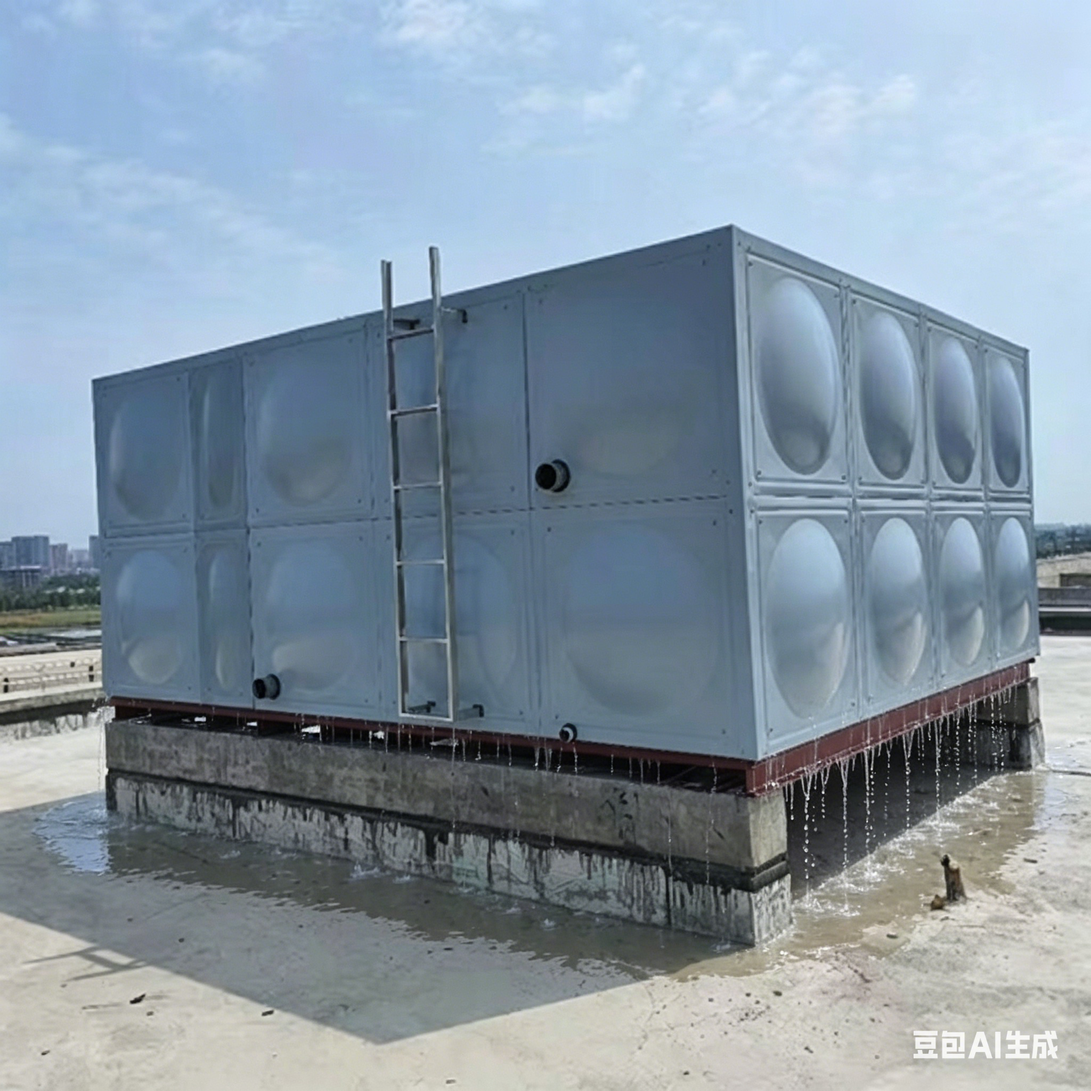Leakage: (44, 818, 732, 975), (128, 712, 740, 796), (798, 670, 1039, 776), (792, 786, 1045, 876), (798, 884, 898, 941)
